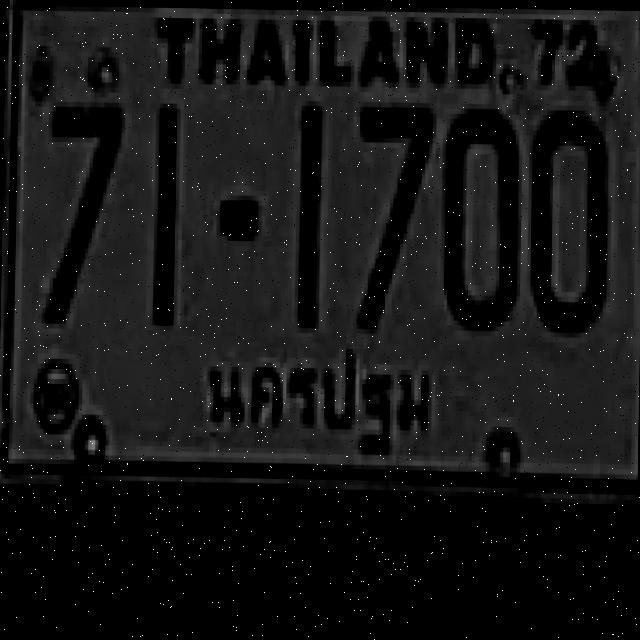0: (526, 105, 606, 328), (442, 103, 518, 326)
1: (149, 100, 177, 322), (294, 103, 319, 324)
7: (353, 101, 429, 324), (44, 101, 120, 319)
NakhonPathom: (190, 342, 442, 460)
